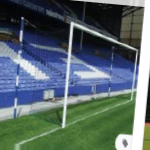goals: (35, 20, 139, 131)
